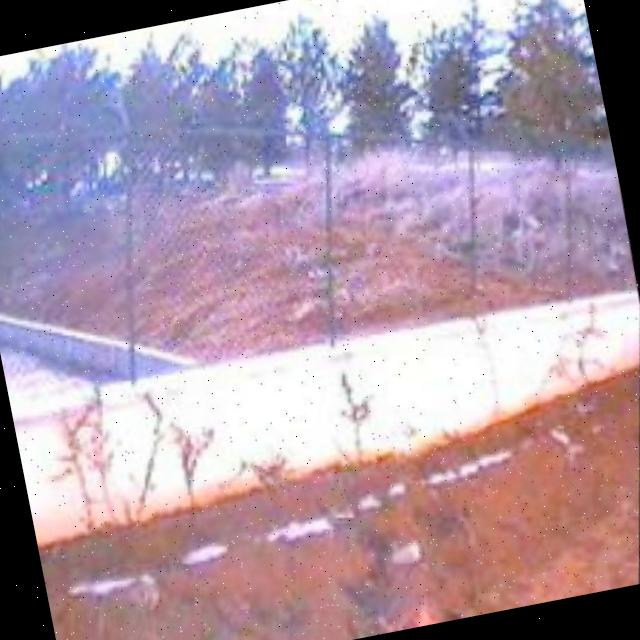fire: (368, 573, 531, 635)
